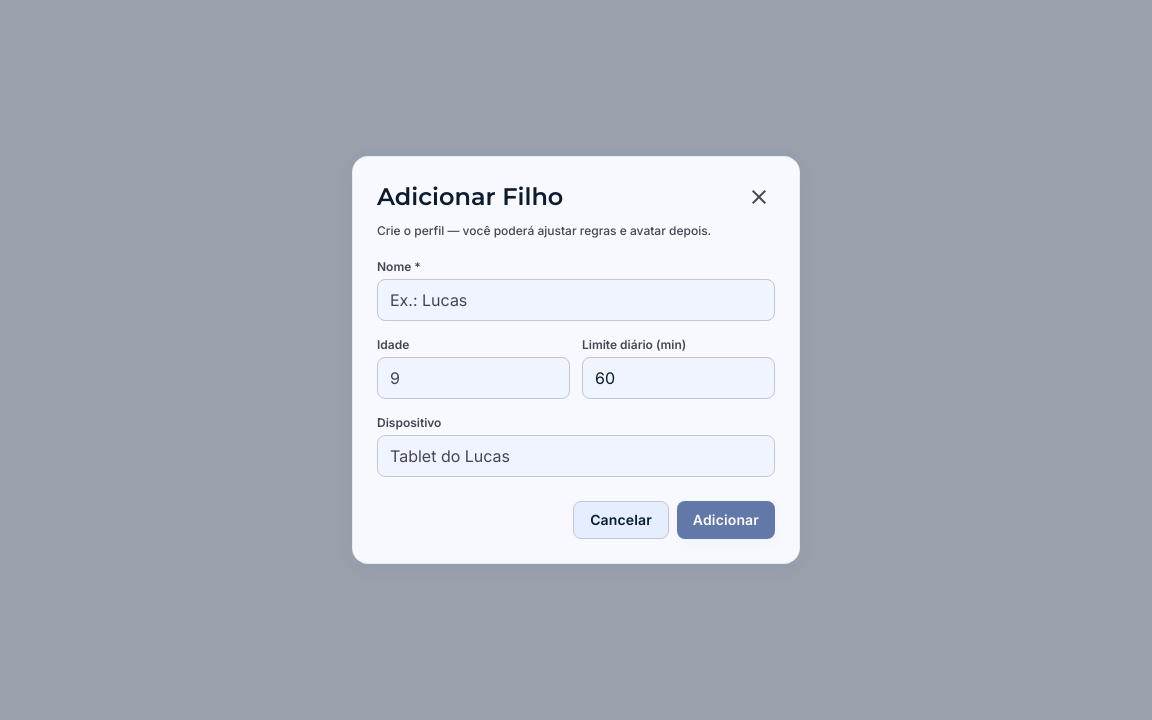
AddChildDialog › enables submit when name is filled
Type "Lucas" into the field labelled "Nome *" at (576, 300), box [377,279,775,321]
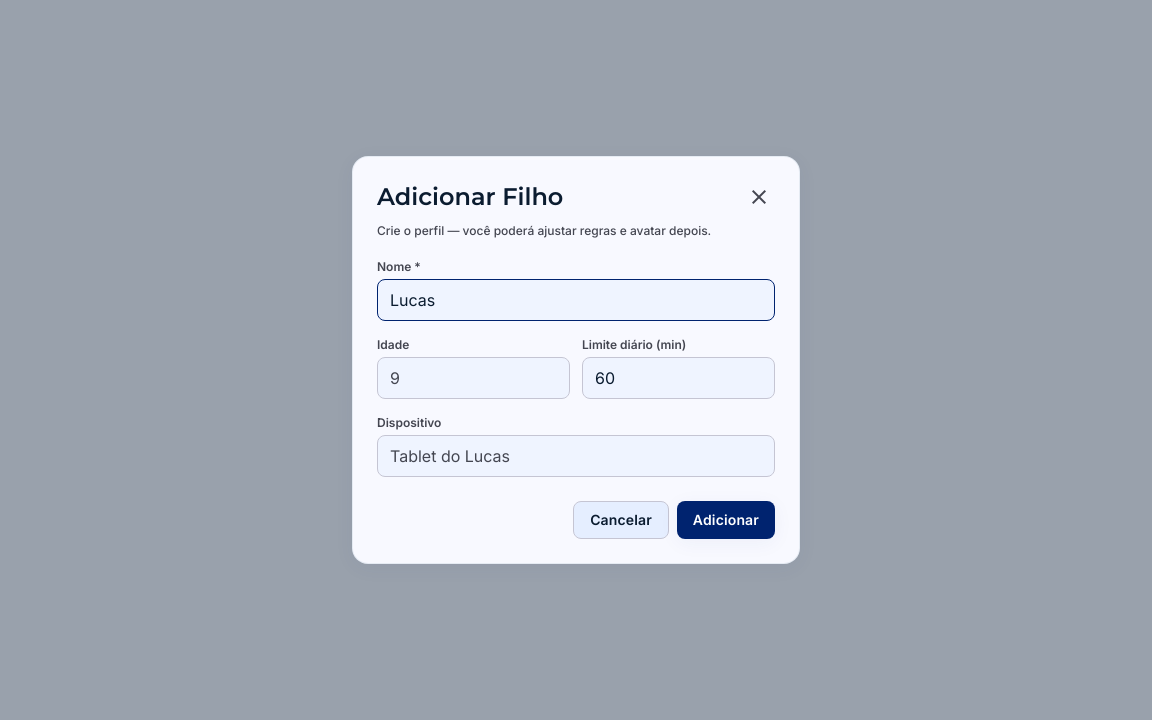
Now the button "Adicionar" is enabled, box [677,501,775,539]
